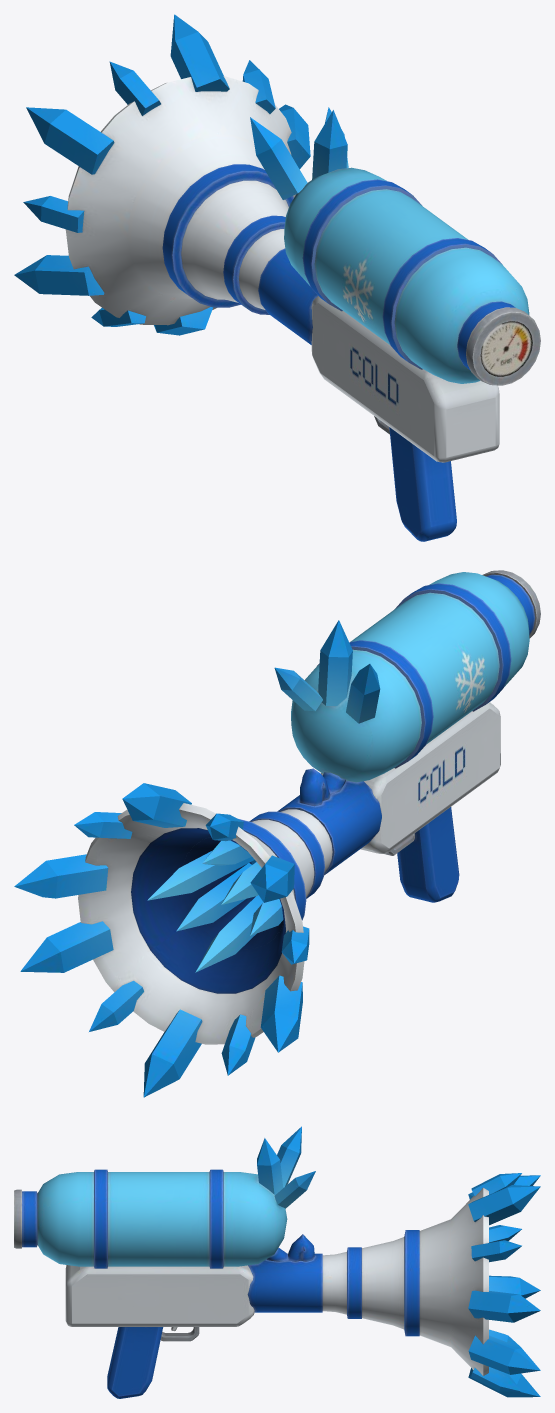
Rendered from freezer.glb.
3 renders of one model, top to bottom at view 1: azimuth 30°, elevation 25°; view 2: azimuth 150°, elevation 25°; view 3: azimuth 270°, elevation 25°, orthographic. The views are drawn at different scales.
Parts seen in each view (by area): view 1: freezer; view 2: freezer; view 3: freezer.
Boxes of the visible parts, x1,y1,x2,y2 form: freezer: [14, 14, 540, 541]; freezer: [14, 570, 540, 1097]; freezer: [14, 1126, 540, 1398].
Size of the model in its own units: 0.3577 by 0.4414 by 0.8205.
Materials: 9 (9 with a texture image).
